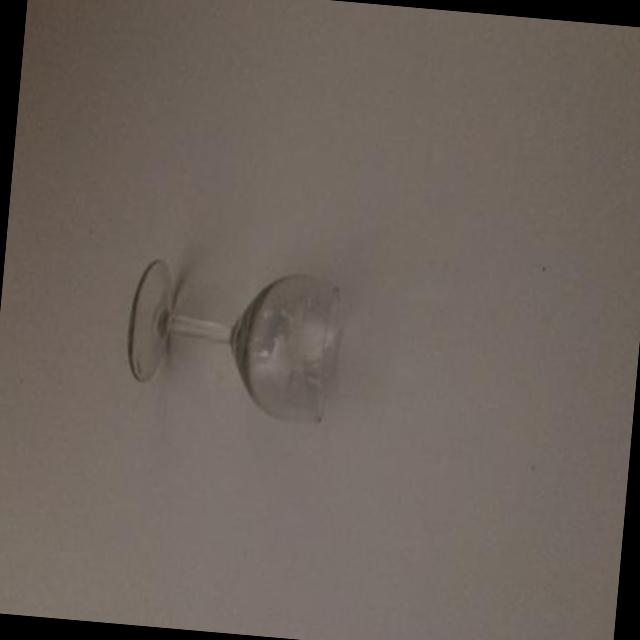chai_thuy_tinh: (126, 258, 344, 420)
